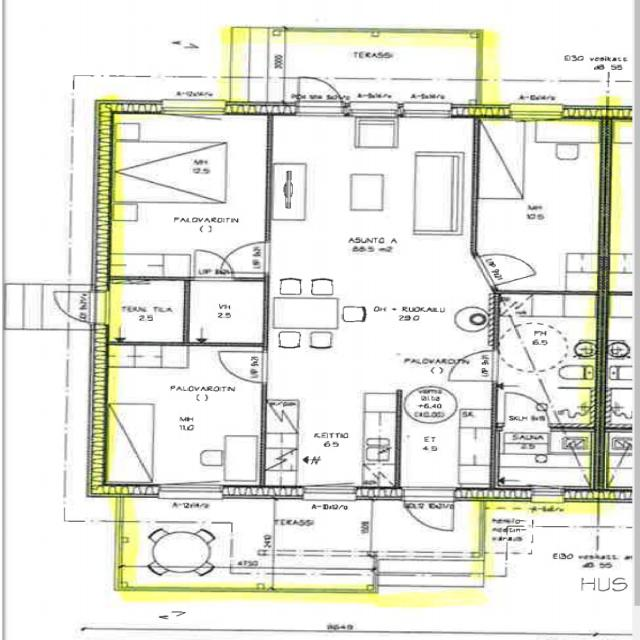door: (473, 244, 537, 286), (403, 487, 453, 537), (298, 69, 342, 116), (44, 291, 107, 321), (504, 390, 548, 430), (447, 350, 499, 381), (215, 351, 266, 382), (217, 242, 266, 272), (194, 249, 233, 281)
